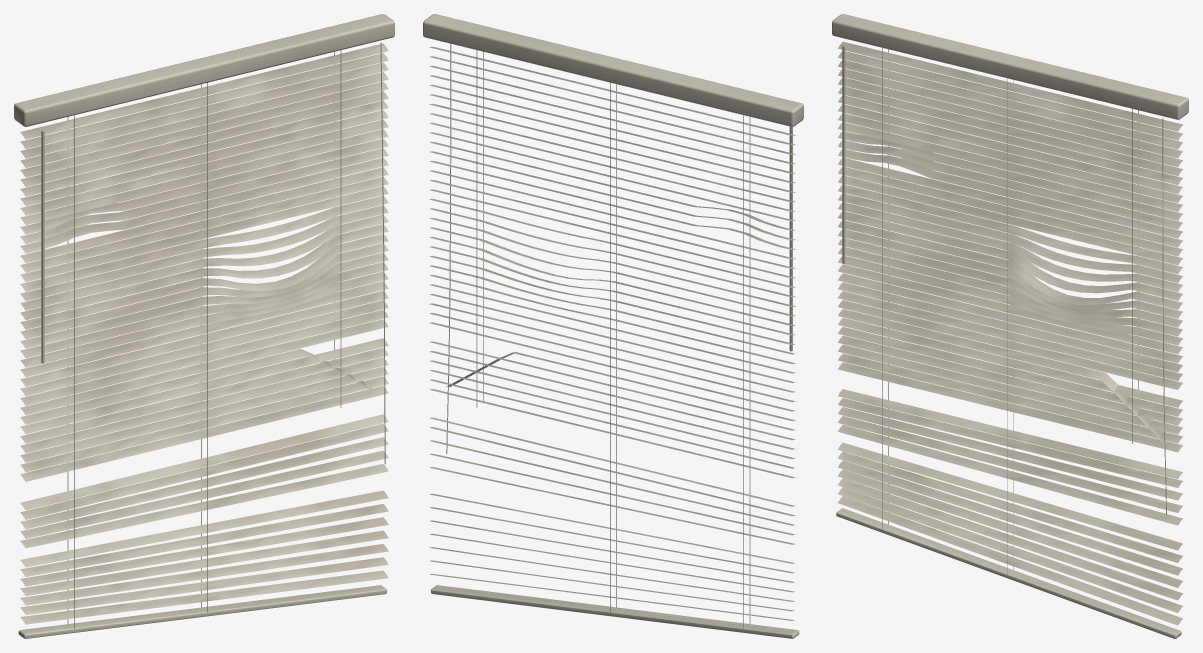
File: blinds_bent.glb
3 views of the same model, side by side, from view 1: azimuth 30°, elevation 25°; view 2: azimuth 150°, elevation 25°; view 3: azimuth 330°, elevation 25° (orthographic). The views are drawn at different scales.
Visible parts, largest first — view 1: blinds_bent; view 2: blinds_bent; view 3: blinds_bent.
Part boxes in pixels (x1=…): blinds_bent: x1=14, y1=14, x2=394, y2=638; blinds_bent: x1=423, y1=14, x2=803, y2=638; blinds_bent: x1=832, y1=14, x2=1188, y2=638.
Bounding box in the file's own units: 0.9199 × 1.36 × 0.0667.
